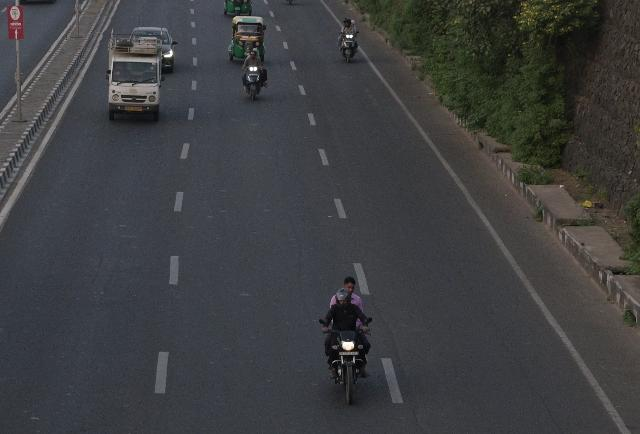With Helmet: (334, 288, 352, 308), (343, 18, 351, 28)
Without Helmet: (342, 275, 358, 293), (249, 52, 257, 58), (350, 20, 356, 28), (253, 48, 259, 56)
